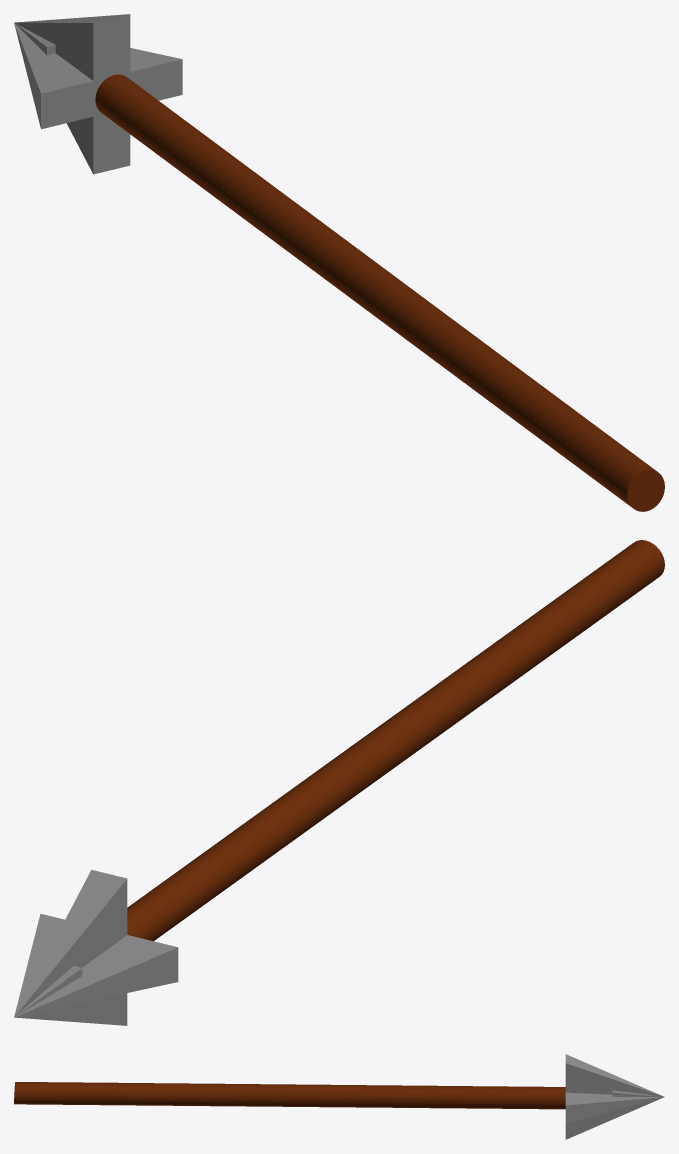
Rendered from Lance.fbx.
3 views of the same model, one above another, from view 1: azimuth 30°, elevation 25°; view 2: azimuth 150°, elevation 25°; view 3: azimuth 270°, elevation 25° (orthographic). The views are drawn at different scales.
Visible parts, largest first — view 1: Cylinder, Cube; view 2: Cylinder, Cube; view 3: Cylinder, Cube.
Boxes of the visible parts, x1=… form: Cylinder: x1=95, y1=74, x2=664, y2=511; Cube: x1=14, y1=14, x2=182, y2=174; Cylinder: x1=127, y1=540, x2=664, y2=941; Cube: x1=14, y1=870, x2=178, y2=1025; Cylinder: x1=14, y1=1082, x2=565, y2=1109; Cube: x1=565, y1=1054, x2=664, y2=1139.
Size of the model in its own units: 216 by 221 by 1698.
